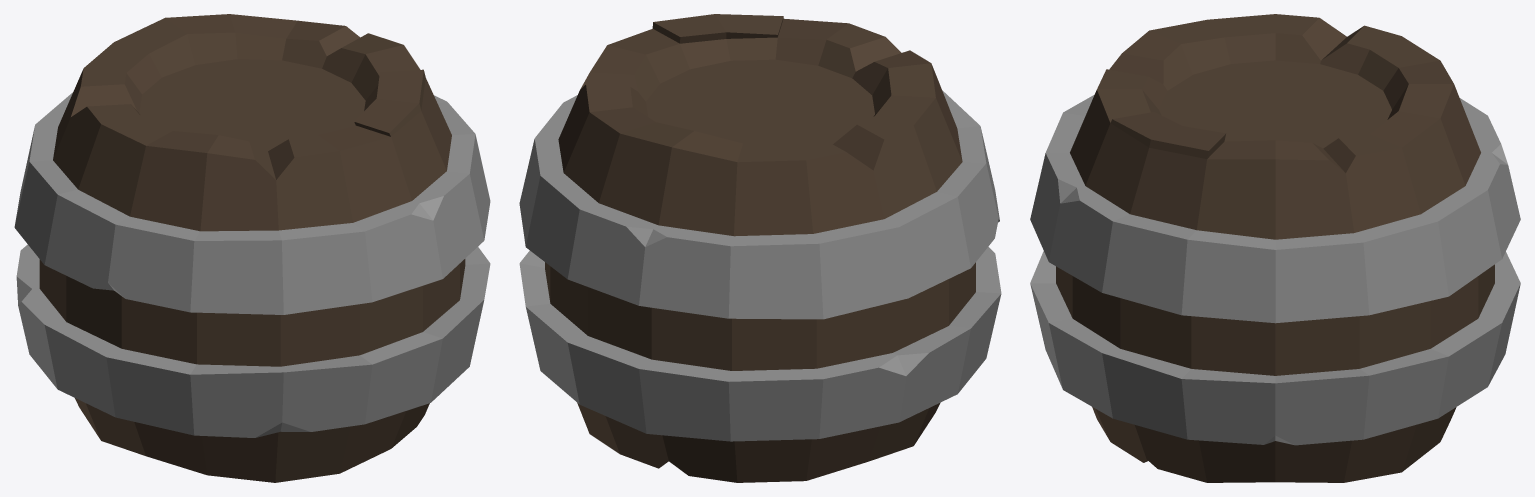
The model's file is mybarrel.glb.
3 renders of one model, left to right at view 1: azimuth 30°, elevation 25°; view 2: azimuth 150°, elevation 25°; view 3: azimuth 270°, elevation 25°, orthographic. The views are drawn at different scales.
Parts seen in each view (by area): view 1: Cylinder; view 2: Cylinder; view 3: Cylinder.
Boxes of the visible parts, x1,y1,x2,y2 form: Cylinder: (14,14,490,482); Cylinder: (519,14,1001,482); Cylinder: (1030,14,1520,482).
Size of the model in its own units: 2.75 by 2.08 by 2.75.
